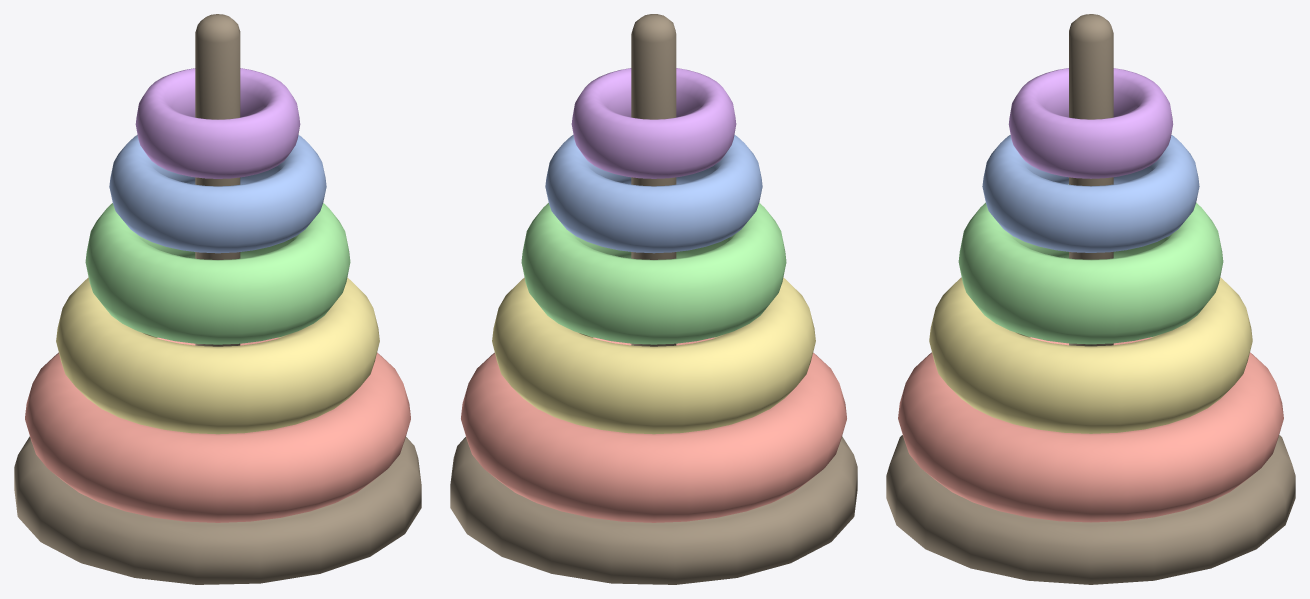
File: Lelu1.fbx
The picture shows the model from 3 angles, left to right: view 1: azimuth 30°, elevation 25°; view 2: azimuth 150°, elevation 25°; view 3: azimuth 270°, elevation 25°; orthographic projection.
Parts seen in each view (by area): view 1: Torus.001, Circle, Torus.002, Torus.003, Torus.004, Torus.005; view 2: Torus.001, Circle, Torus.002, Torus.003, Torus.004, Torus.005; view 3: Torus.001, Circle, Torus.002, Torus.003, Torus.004, Torus.005.
Boxes of the visible parts, x1=… form: Torus.001: x1=25, y1=337, x2=410, y2=522; Circle: x1=14, y1=14, x2=421, y2=584; Torus.002: x1=56, y1=277, x2=379, y2=434; Torus.003: x1=85, y1=203, x2=350, y2=344; Torus.004: x1=109, y1=135, x2=326, y2=253; Torus.005: x1=135, y1=68, x2=300, y2=178; Torus.001: x1=461, y1=337, x2=846, y2=522; Circle: x1=450, y1=14, x2=857, y2=584; Torus.002: x1=492, y1=277, x2=815, y2=434; Torus.003: x1=521, y1=203, x2=786, y2=344; Torus.004: x1=545, y1=135, x2=762, y2=253; Torus.005: x1=571, y1=68, x2=736, y2=178; Torus.001: x1=898, y1=337, x2=1283, y2=522; Circle: x1=886, y1=14, x2=1295, y2=584; Torus.002: x1=929, y1=277, x2=1252, y2=433; Torus.003: x1=958, y1=184, x2=1223, y2=344; Torus.004: x1=982, y1=135, x2=1199, y2=252; Torus.005: x1=1008, y1=68, x2=1173, y2=178.
Bounding box in the file's own units: 0.36 × 0.4668 × 0.36.
